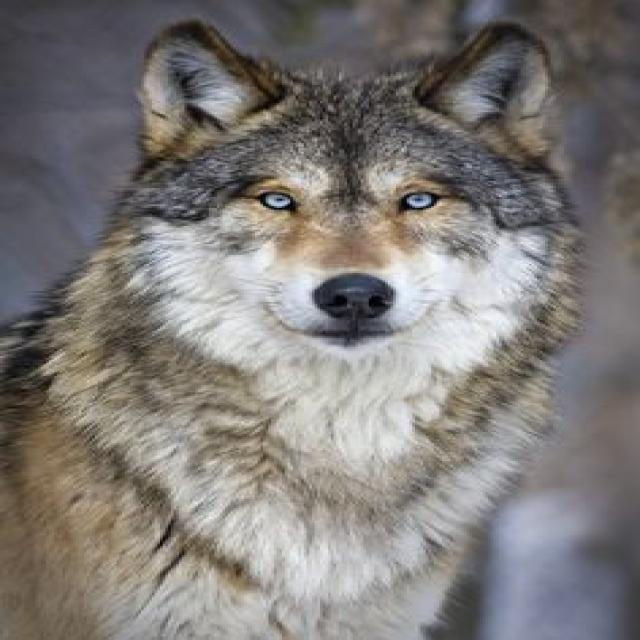Carnivorous: (0, 18, 586, 640)
